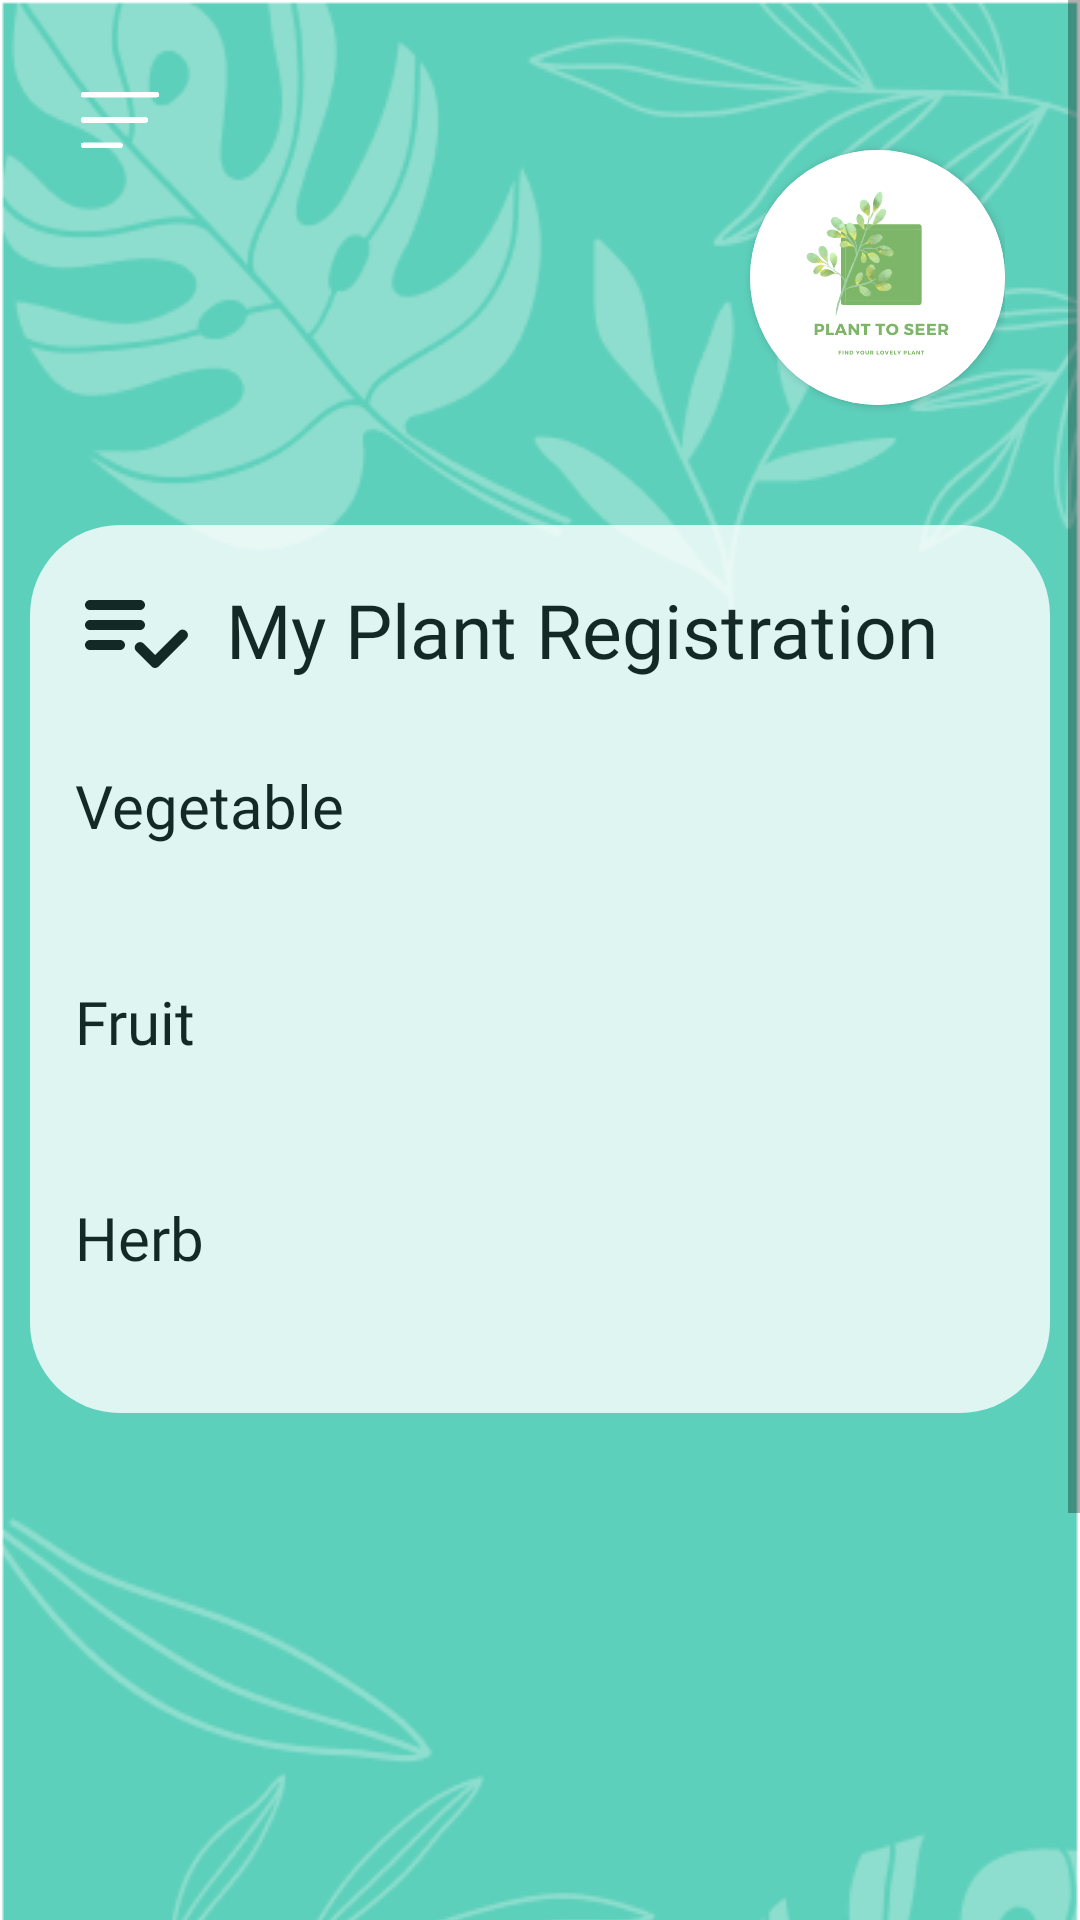

Where to tap for icons on this 1080px x 1920px app screen, as (x,y):
list: (120,120)
playlist add check: (136,634)
